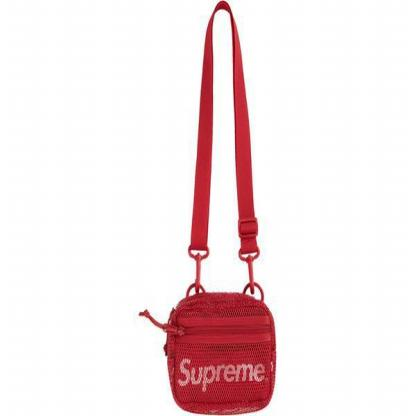other: (127, 0, 282, 410)
